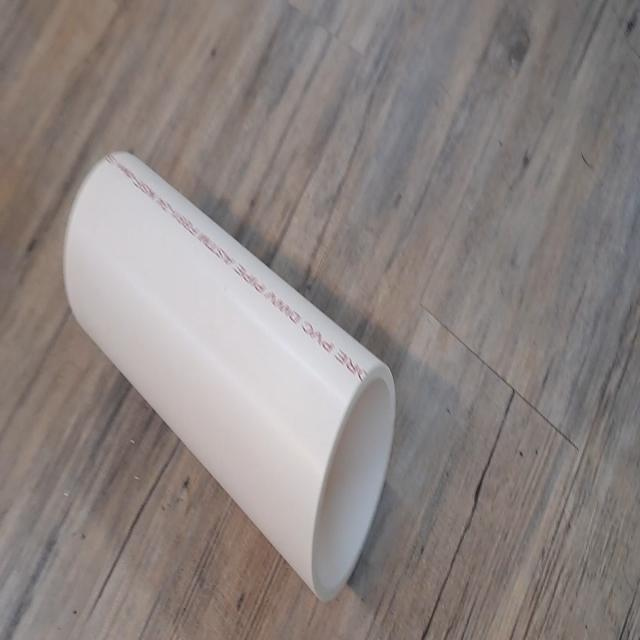CORAL: (53, 137, 404, 606)
